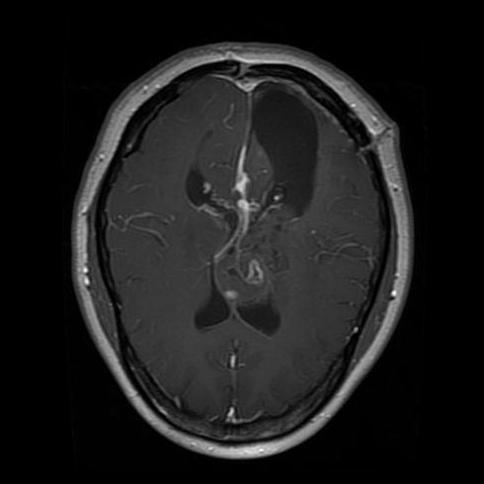Tumour-Glioma: (200, 242, 275, 316)
